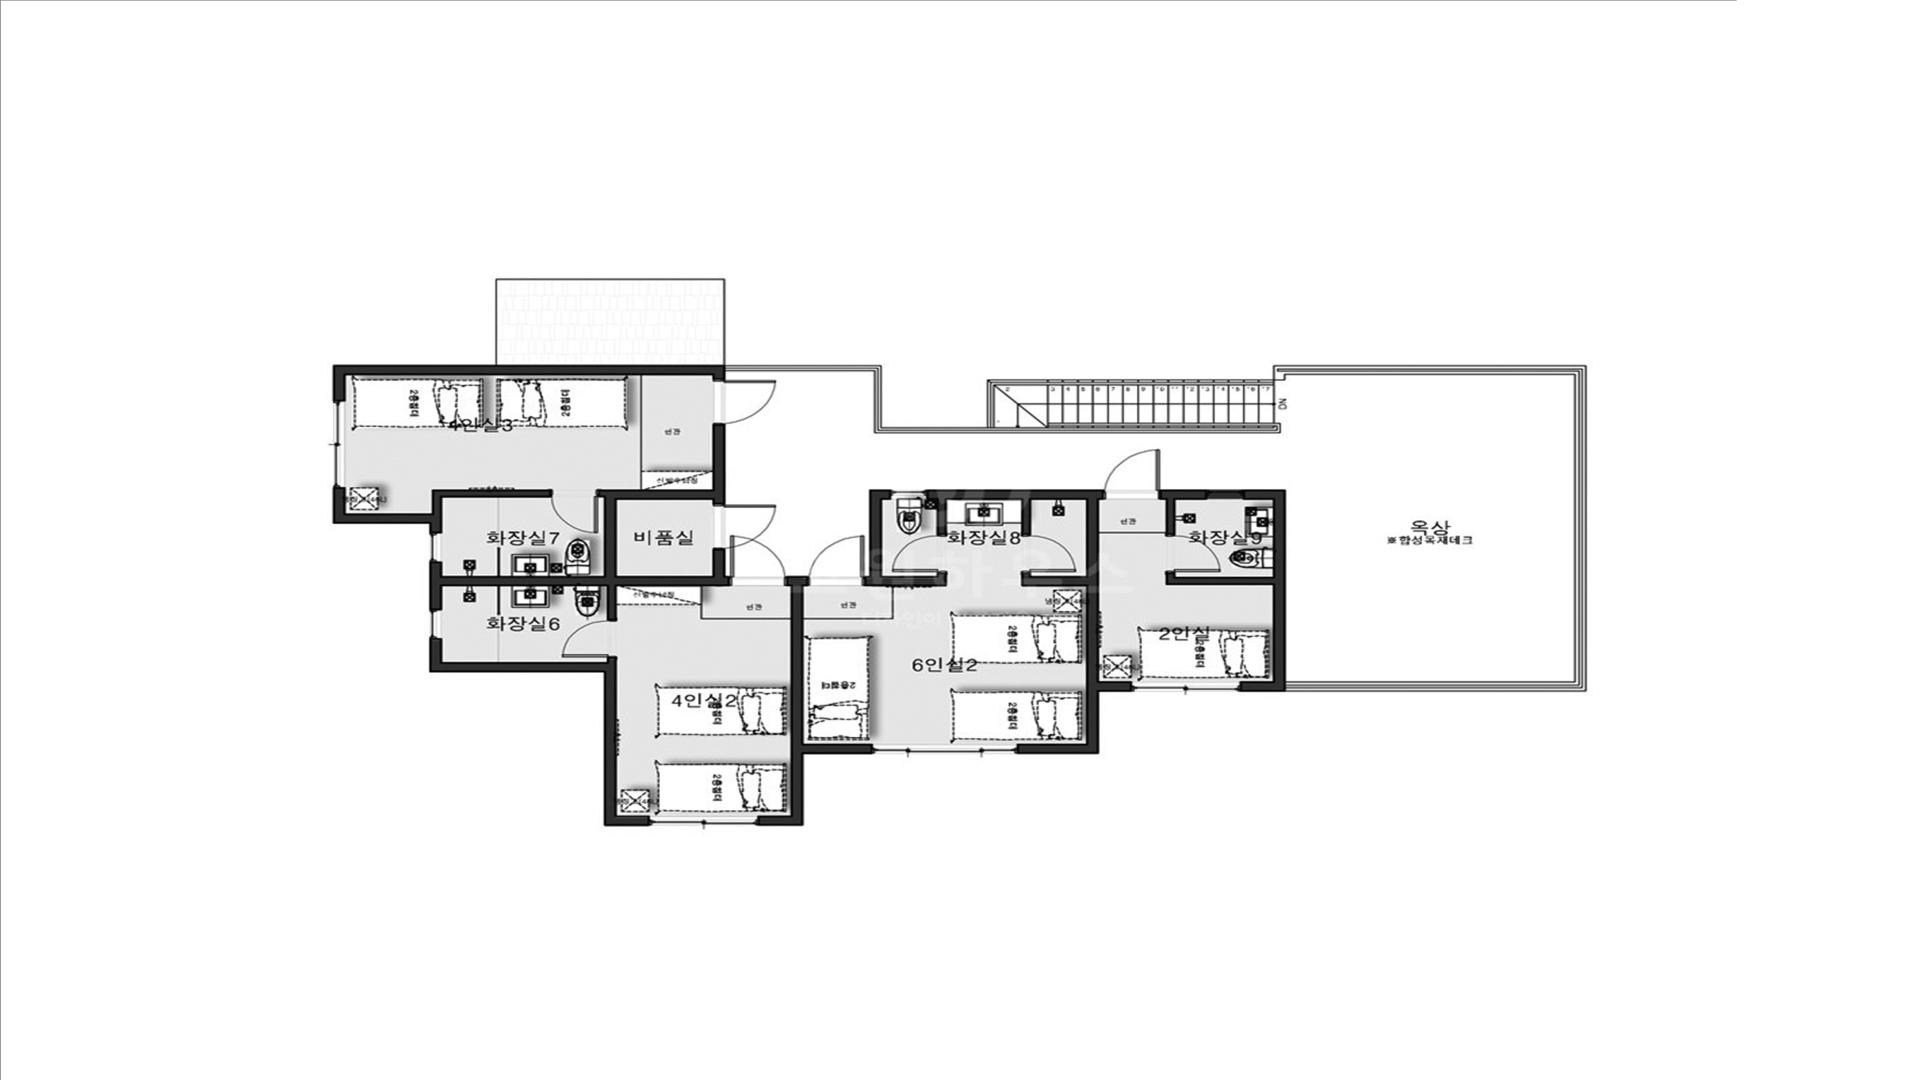door: (1102, 448, 1162, 500), (729, 535, 787, 587), (807, 535, 865, 587), (712, 504, 777, 550), (712, 380, 777, 425), (1166, 534, 1221, 574), (550, 489, 599, 533), (1021, 535, 1076, 574), (562, 618, 617, 657), (893, 535, 947, 572)
wall: (1274, 365, 1588, 692), (430, 640, 649, 825), (725, 364, 1280, 433), (334, 364, 725, 401), (986, 380, 1274, 427), (758, 744, 872, 825), (1241, 489, 1286, 692), (1017, 682, 1131, 754), (443, 576, 712, 587), (431, 489, 550, 513), (865, 489, 890, 587), (1085, 500, 1098, 682), (345, 513, 442, 533), (791, 587, 803, 744), (927, 489, 1102, 500), (599, 489, 617, 576), (1166, 574, 1274, 585), (712, 425, 725, 504), (616, 489, 712, 500), (882, 572, 947, 587), (1021, 574, 1085, 585), (429, 562, 443, 609), (712, 550, 729, 587), (1162, 489, 1207, 500), (332, 488, 345, 524), (936, 500, 947, 535), (1021, 500, 1031, 535), (607, 587, 617, 618), (1166, 500, 1175, 534), (787, 576, 807, 587), (607, 657, 617, 662)
window: (872, 744, 1017, 754), (1131, 682, 1241, 692), (332, 401, 345, 488), (649, 816, 758, 825), (429, 533, 443, 562), (890, 489, 928, 500), (1207, 489, 1245, 500), (430, 609, 442, 640)
